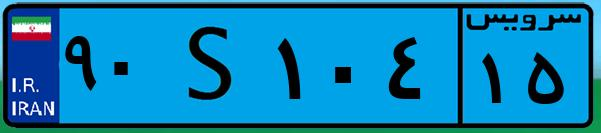0: (330, 28, 385, 110), (110, 28, 158, 98)
1: (270, 28, 330, 110), (475, 38, 525, 113)
4: (385, 28, 445, 110)
5: (525, 38, 570, 115)
9: (57, 26, 110, 100)
S: (158, 12, 270, 120)
